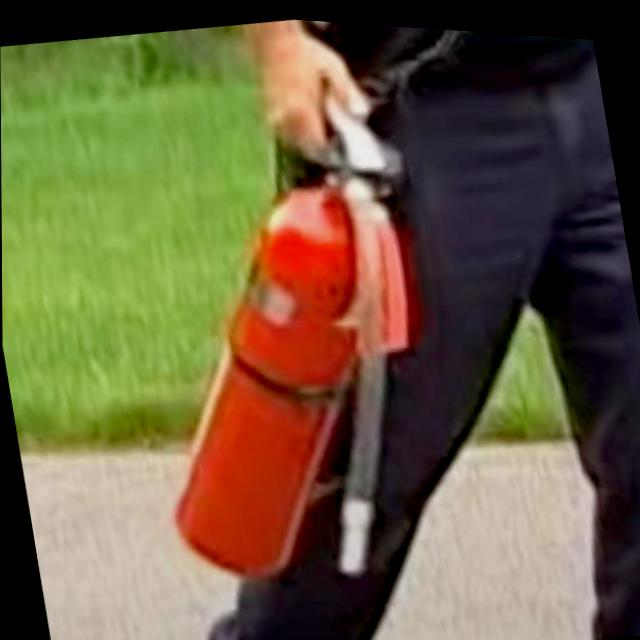FireExtinguisher: (95, 54, 478, 611)
